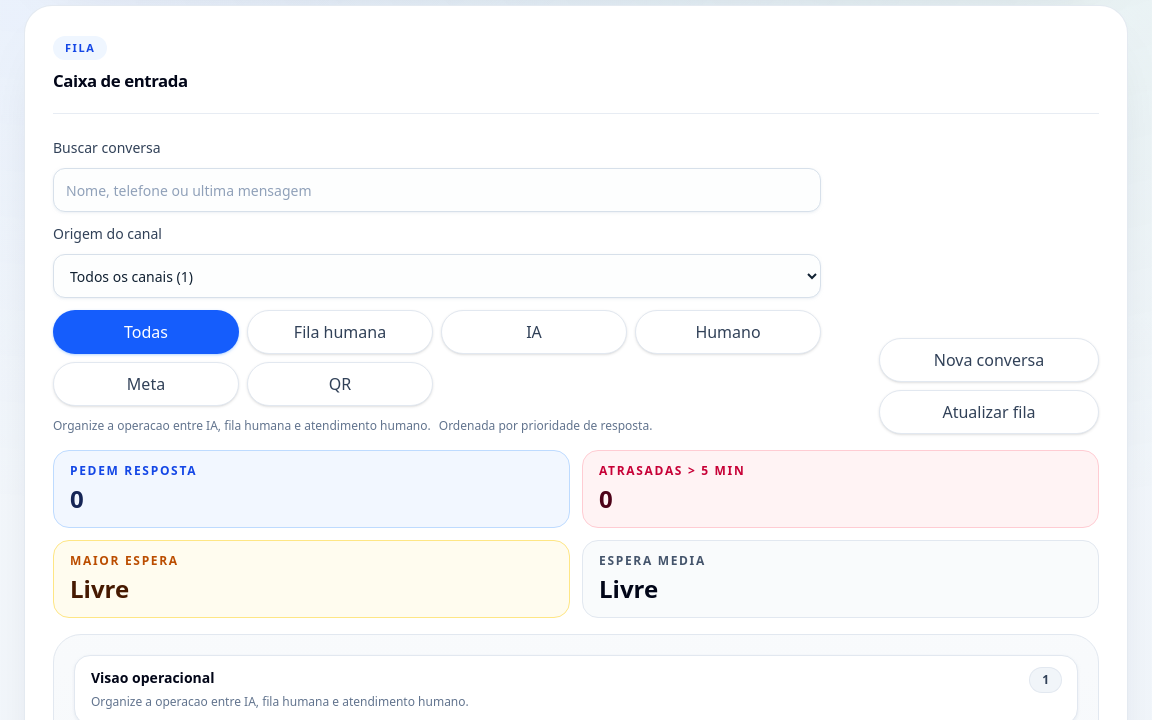
Test: InboxWorkspace › abre o modal de outbound
(page scrolled)
Click the button "Nova conversa".
click(989, 360)  # box [879,338,1099,382]
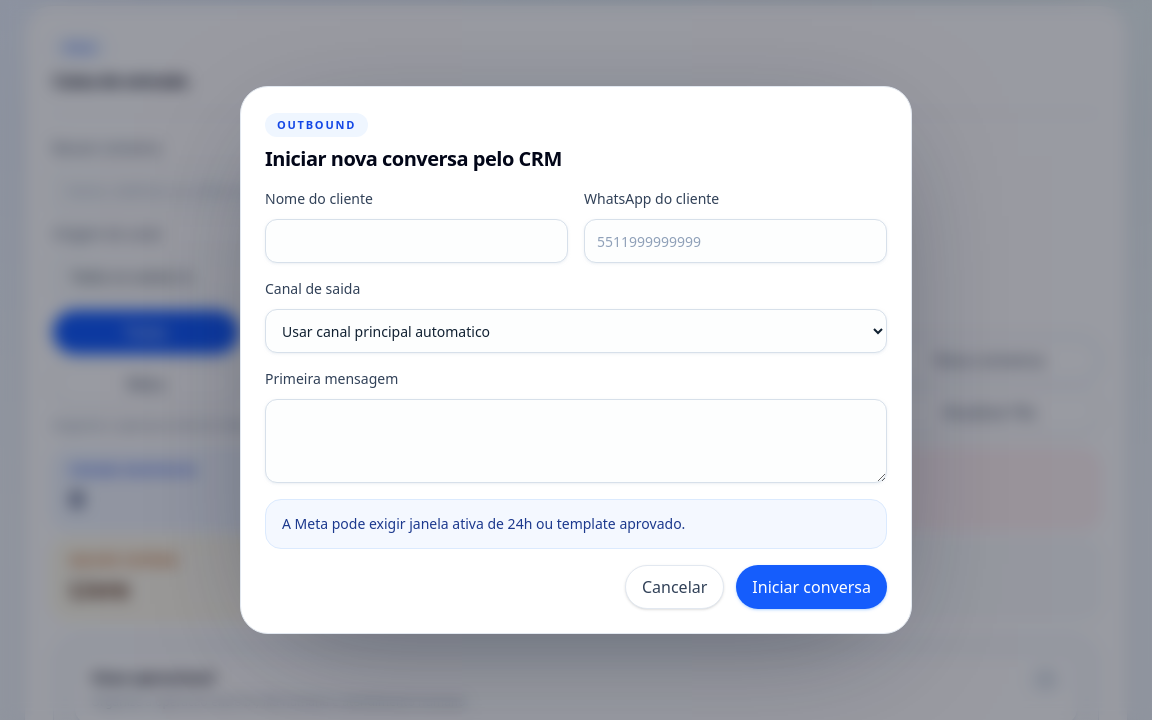
Result: the heading "Iniciar nova conversa pelo CRM" is shown at [265,145,562,172]
